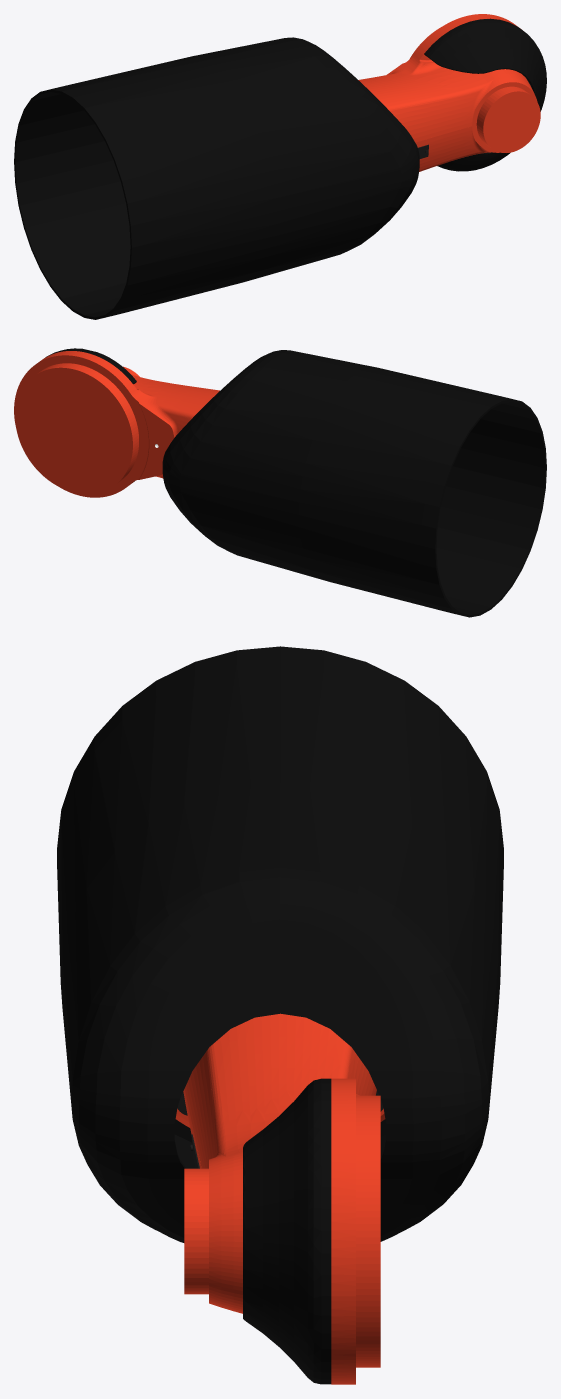
3 views of the same model, one above another, from view 1: azimuth 30°, elevation 25°; view 2: azimuth 150°, elevation 25°; view 3: azimuth 270°, elevation 25° (orthographic). The views are drawn at different scales.
Parts seen in each view (by area): view 1: link_4; view 2: link_4; view 3: link_4.
Part boxes in pixels (x1,y1,x2,y2): link_4: [14, 14, 546, 319]; link_4: [14, 348, 546, 617]; link_4: [57, 646, 503, 1384].
Bounding box in the file's own units: 0.6226 × 0.263 × 0.263.
